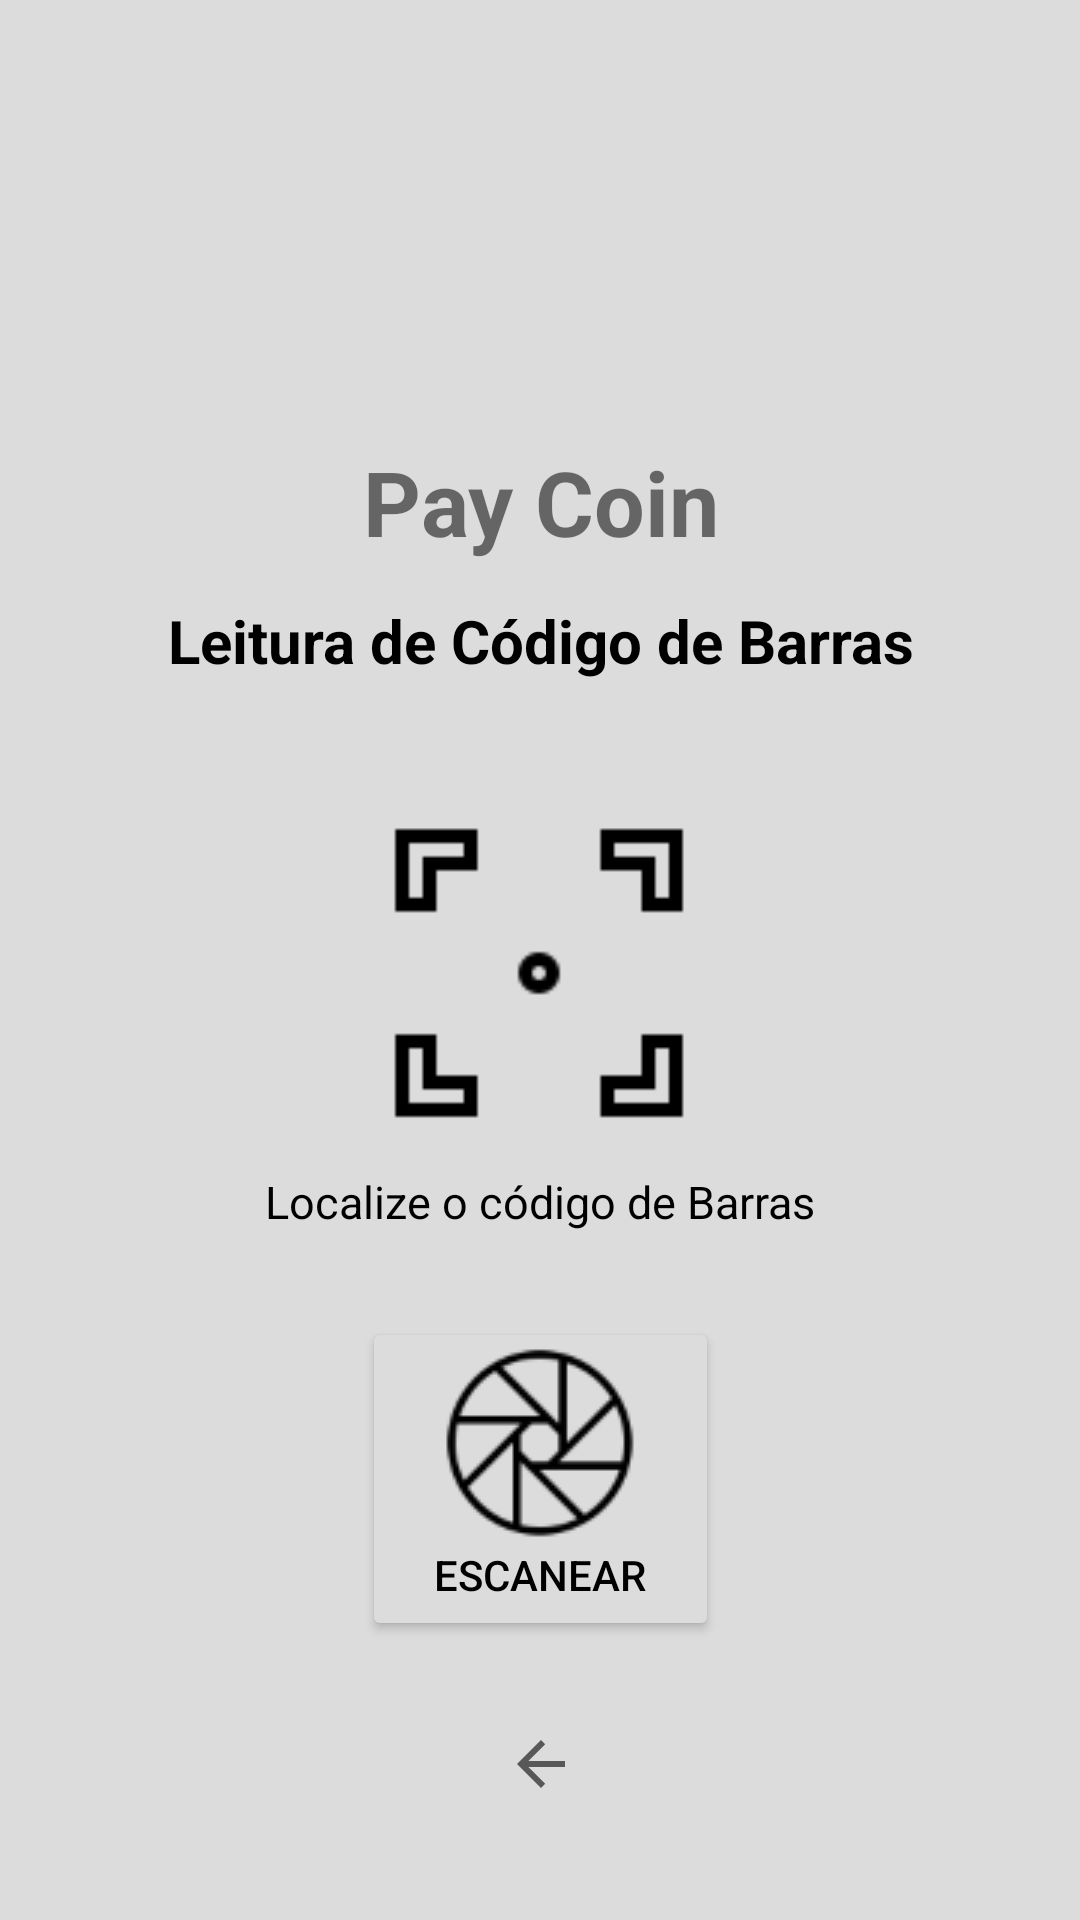

Point at icon controls on the screen. Image size 1080x1920, points as (x=x, y=y).
iconscan: (x=539, y=973)
